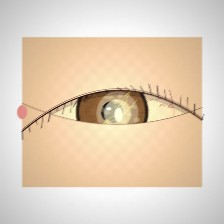corneal_ulcer: (94, 95, 141, 132)
